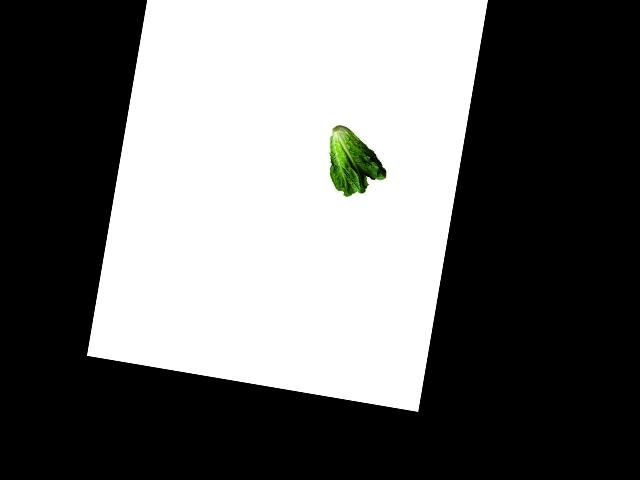lettuce: (318, 125, 396, 202)
